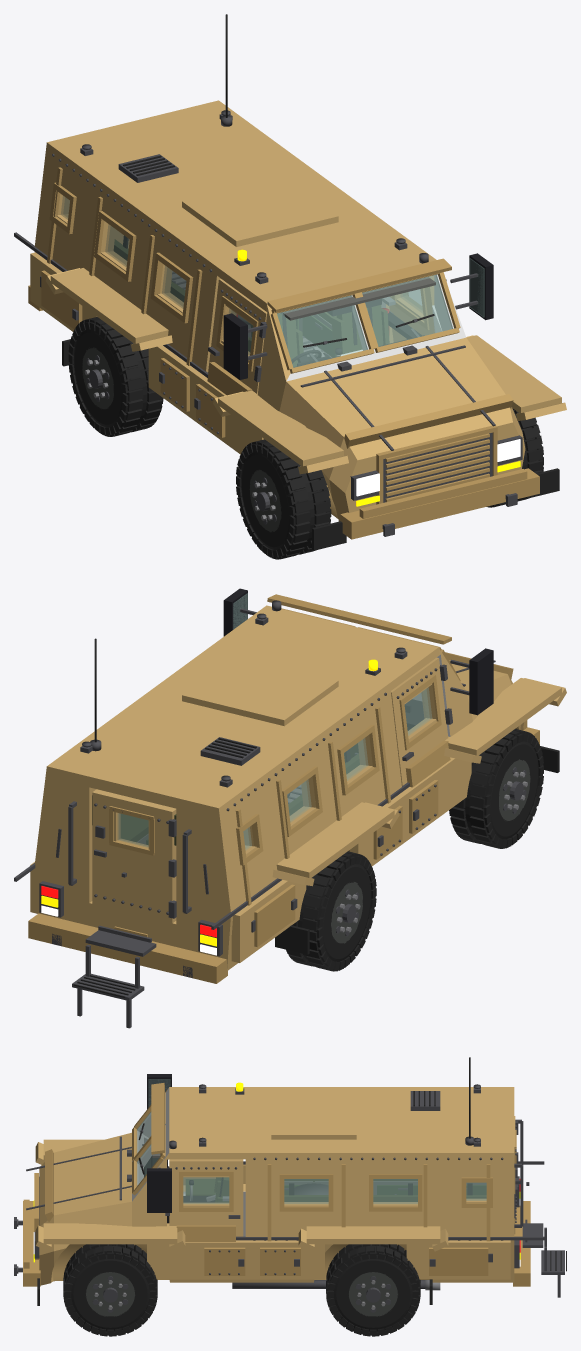
File: blinde.glb
3 views of the same model, one above another, from view 1: azimuth 30°, elevation 25°; view 2: azimuth 150°, elevation 25°; view 3: azimuth 270°, elevation 25° (orthographic). The views are drawn at different scales.
Visible parts, largest first — view 1: Coque, Exterieur_Details_Trou, Groupe_Vitre_Blindee, Roue_AVG, Roue_ARG, Interieur, Groupe_Peinture_Sable_Fonce, Porte_G, Porte_D, Roue_AVD; view 2: Coque, Exterieur_Details_Trou, PorteArr, Roue_AVG, Roue_ARG, Porte_G, Groupe_Peinture_Sable_Fonce, Interieur, Marchepied, Groupe_Vitre_Blindee; view 3: Coque, Exterieur_Details_Trou, Roue_AVD, Roue_ARD, Porte_D, Interieur, Groupe_Vitre_Blindee, Groupe_Peinture_Sable_Fonce, Chassis, Marchepied, PorteArr.
Boxes of the visible parts, x1,y1,x2,y2 form: Coque: (35,100,525,521); Exterieur_Details_Trou: (14,14,566,550); Groupe_Vitre_Blindee: (61,196,453,367); Roue_AVG: (236,439,331,559); Roue_ARG: (68,317,163,436); Interieur: (114,236,435,367); Groupe_Peinture_Sable_Fonce: (49,182,460,373); Porte_G: (207,279,267,395); Porte_D: (389,276,446,342); Roue_AVD: (486,408,543,507); Coque: (34,605,523,970); Exterieur_Details_Trou: (14,588,566,983); PorteArr: (92,789,176,923); Roue_AVG: (449,728,543,848); Roue_ARG: (286,851,376,971); Porte_G: (391,657,452,787); Groupe_Peinture_Sable_Fonce: (236,608,460,865); Interieur: (56,699,423,894); Marchepied: (72,945,144,1028); Groupe_Vitre_Blindee: (243,738,367,849); Coque: (39,1087,514,1285); Exterieur_Details_Trou: (14,1057,544,1305); Roue_AVD: (63,1244,157,1336); Roue_ARD: (326,1244,420,1336); Porte_D: (165,1159,243,1241); Interieur: (144,1153,515,1236); Groupe_Vitre_Blindee: (137,1111,486,1203); Groupe_Peinture_Sable_Fonce: (132,1092,492,1211); Chassis: (232,1280,440,1290); Marchepied: (541,1227,566,1297); PorteArr: (514,1116,518,1234).
Bounding box in the file's own units: 4.11 × 4.96 × 9.68.
